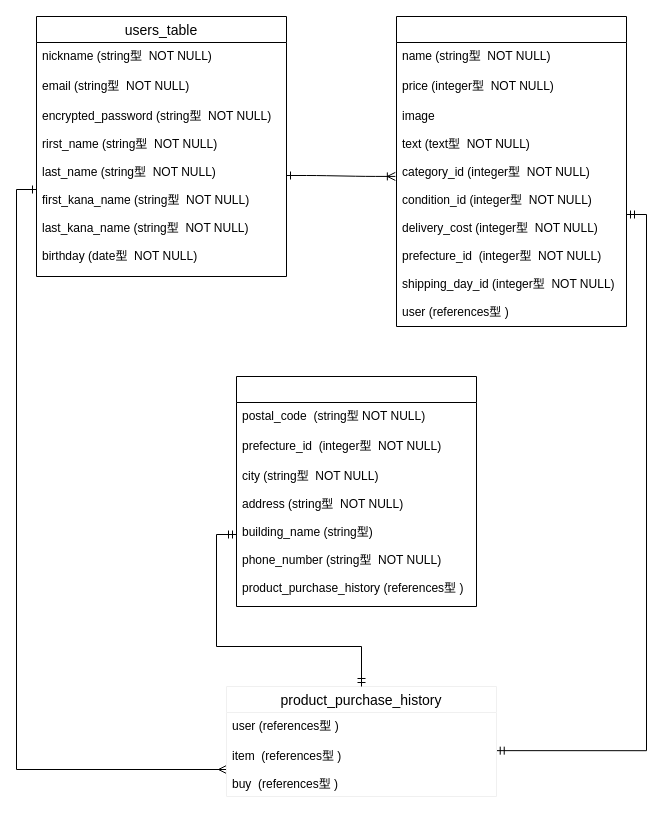
The diagram is 663 pixels wide and 813 high, and some of its shapes have lost their labels. The box of each missing label's shape, as (x1, y1, x2, y2) in pixels:
buys_table: (236, 376, 476, 606)
items_table: (396, 16, 626, 326)
